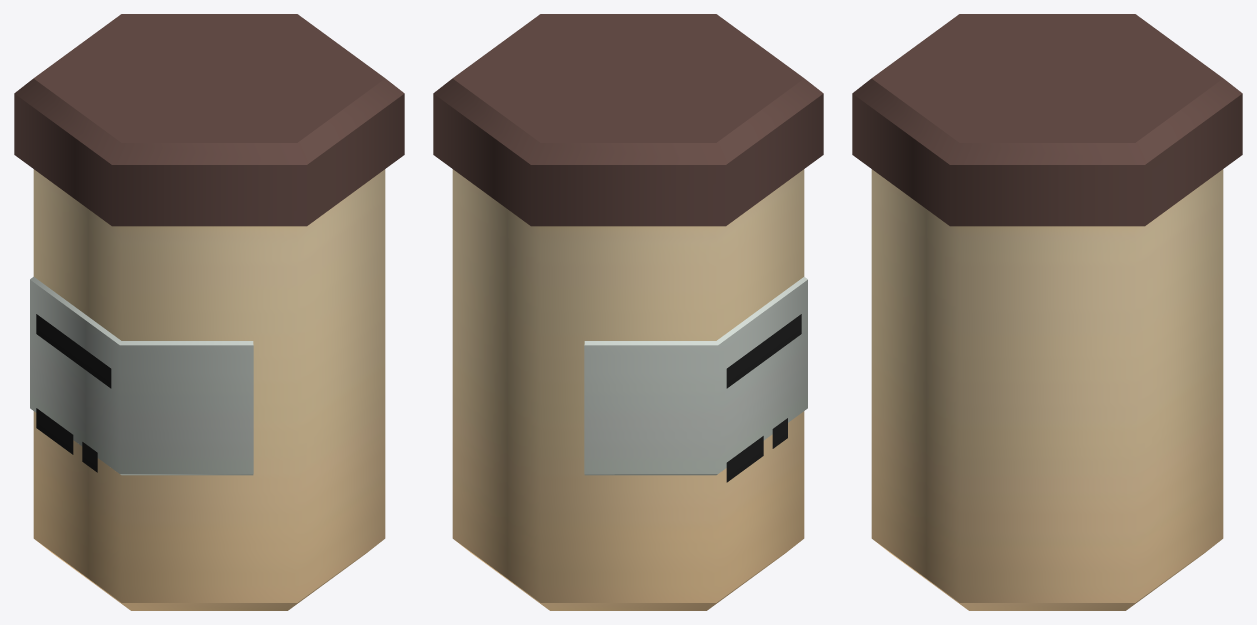
Rendered from Jar_3_A.fbx.
The picture shows the model from 3 angles, left to right: view 1: azimuth 30°, elevation 25°; view 2: azimuth 150°, elevation 25°; view 3: azimuth 270°, elevation 25°; orthographic projection.
Parts seen in each view (by area): view 1: Jar_3_A; view 2: Jar_3_A; view 3: Jar_3_A.
Boxes of the visible parts, box(x1,y1,x2,y2) form: Jar_3_A: box(14, 14, 404, 610); Jar_3_A: box(433, 14, 823, 610); Jar_3_A: box(852, 14, 1242, 610).
Bounding box in the file's own units: 17.99 × 27.9 × 20.77.
